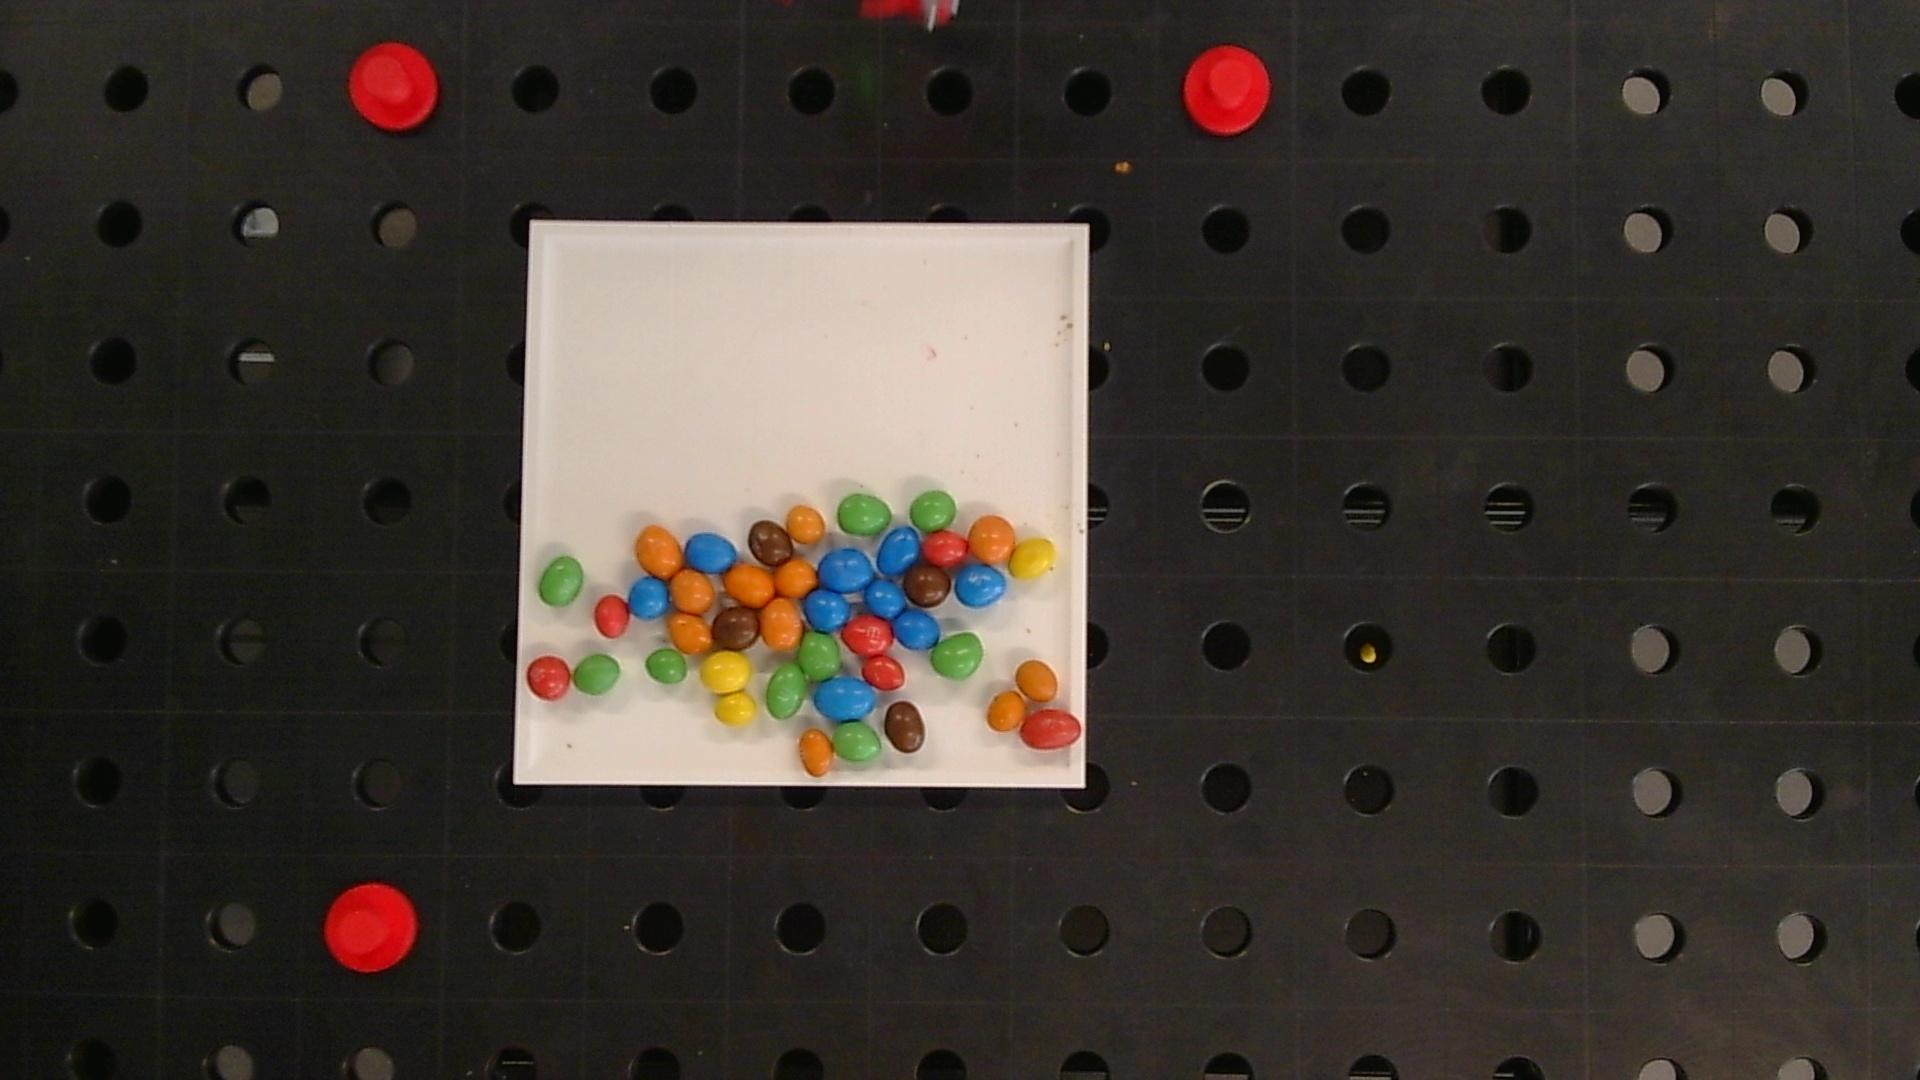blue: (816, 678, 876, 721), (818, 550, 876, 591), (956, 563, 1006, 605), (686, 533, 738, 572), (628, 575, 671, 621), (880, 529, 920, 574), (807, 589, 851, 630), (894, 611, 938, 649), (866, 579, 907, 617)
brown: (905, 562, 953, 609), (885, 702, 924, 753), (748, 521, 795, 563), (715, 607, 758, 649)
green: (931, 630, 985, 680), (765, 662, 807, 719), (541, 554, 585, 605), (837, 493, 891, 535), (571, 651, 621, 696), (798, 629, 840, 680), (641, 646, 690, 687), (832, 721, 882, 761), (913, 491, 956, 533)
orange: (967, 516, 1018, 568), (636, 526, 683, 580), (760, 596, 804, 653), (724, 563, 775, 608), (669, 567, 715, 615), (670, 612, 713, 655), (1015, 659, 1059, 702), (798, 728, 832, 777), (785, 506, 828, 545), (774, 560, 819, 596), (989, 690, 1026, 731)
red: (1022, 709, 1083, 749), (843, 615, 897, 655), (526, 655, 570, 702), (920, 529, 969, 564), (595, 592, 630, 638), (861, 654, 906, 688)
yellow: (699, 651, 752, 695), (1006, 538, 1059, 580), (711, 691, 758, 727)
